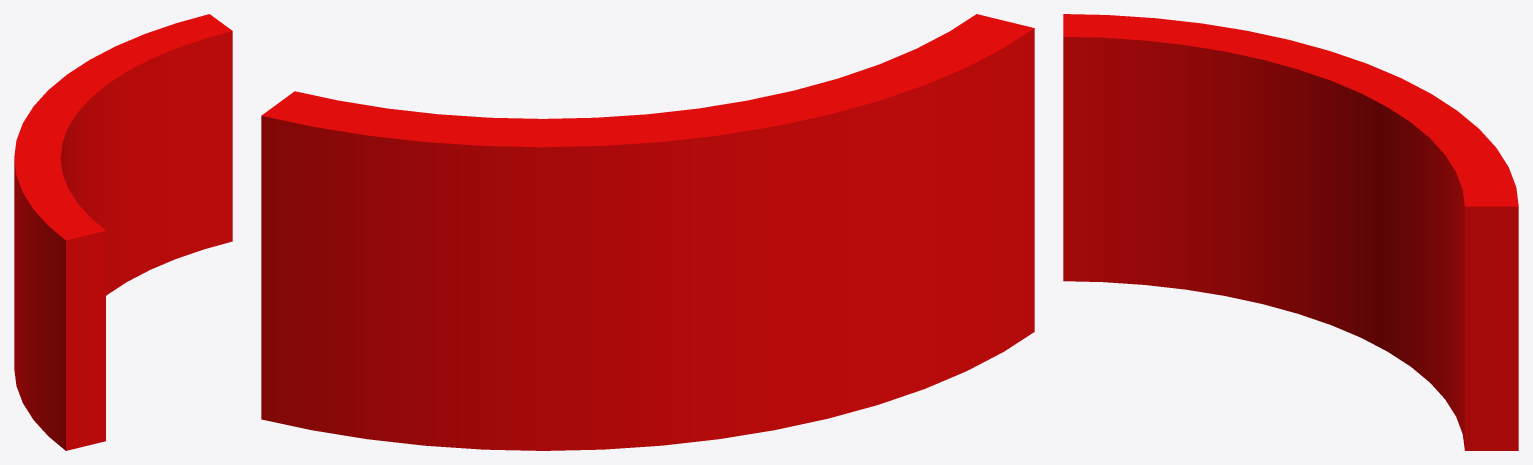
Rendered from Dungeon_ThinWallWithGrooves.FBX.
3 views of the same model, side by side, from view 1: azimuth 30°, elevation 25°; view 2: azimuth 150°, elevation 25°; view 3: azimuth 270°, elevation 25° (orthographic). The views are drawn at different scales.
Visible parts, largest first — view 1: ThinWall_WithGrooves; view 2: ThinWall_WithGrooves; view 3: ThinWall_WithGrooves.
Boxes of the visible parts, left/top/right/bottom form: ThinWall_WithGrooves: left=14, top=14, right=232, bottom=450; ThinWall_WithGrooves: left=261, top=14, right=1034, bottom=450; ThinWall_WithGrooves: left=1063, top=14, right=1518, bottom=450.
Bounding box in the file's own units: 422 × 250 × 422.
